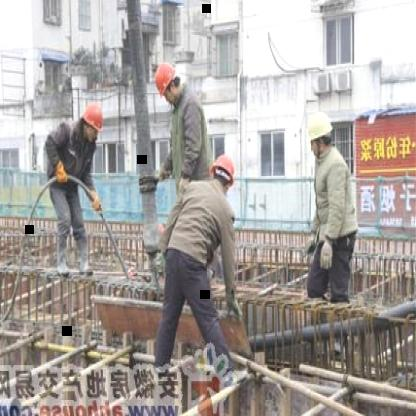helmet: (207, 151, 240, 188), (304, 108, 334, 147), (77, 99, 108, 135), (152, 60, 177, 100)
